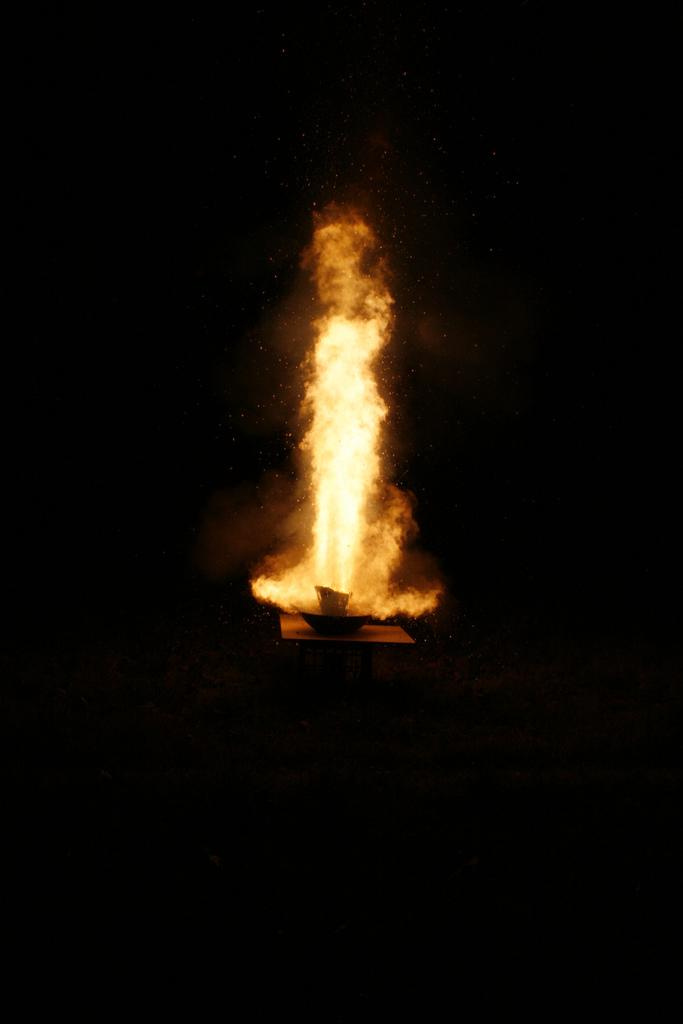fire: (312, 325, 373, 568)
